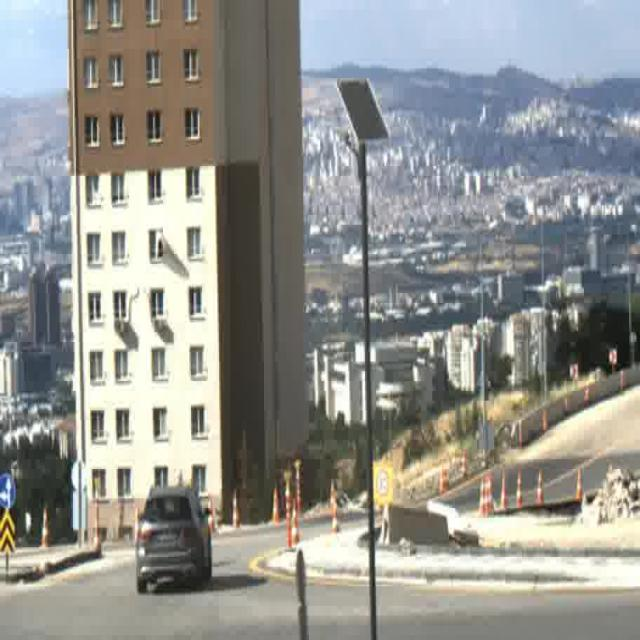Car: (136, 488, 212, 592)
